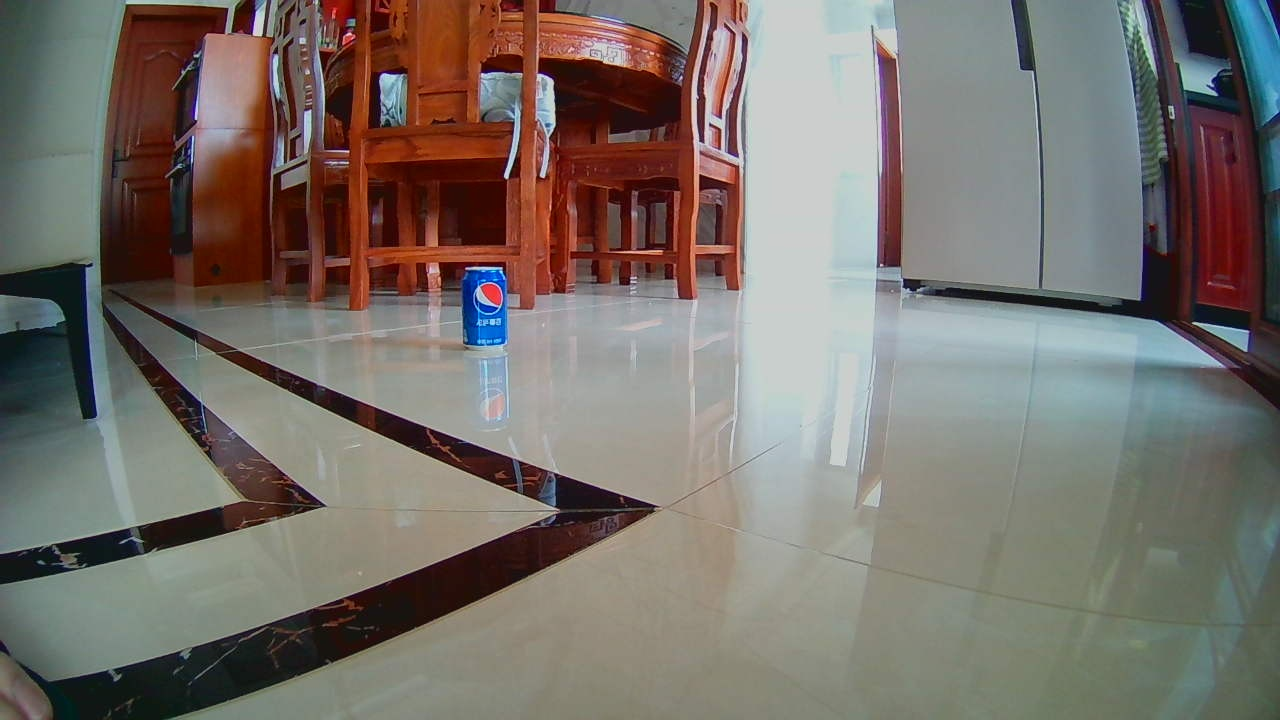pessi: (463, 263, 508, 346)
